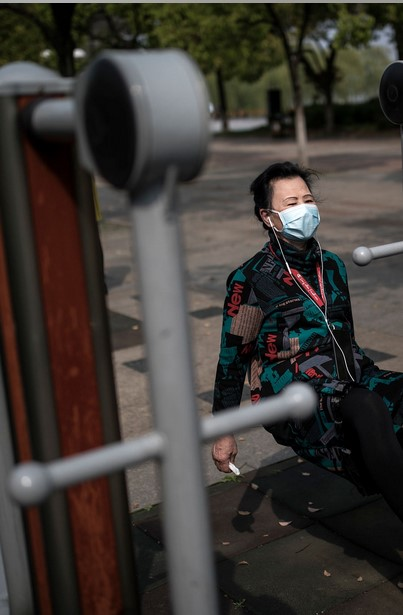face_with_mask: (251, 162, 324, 248)
